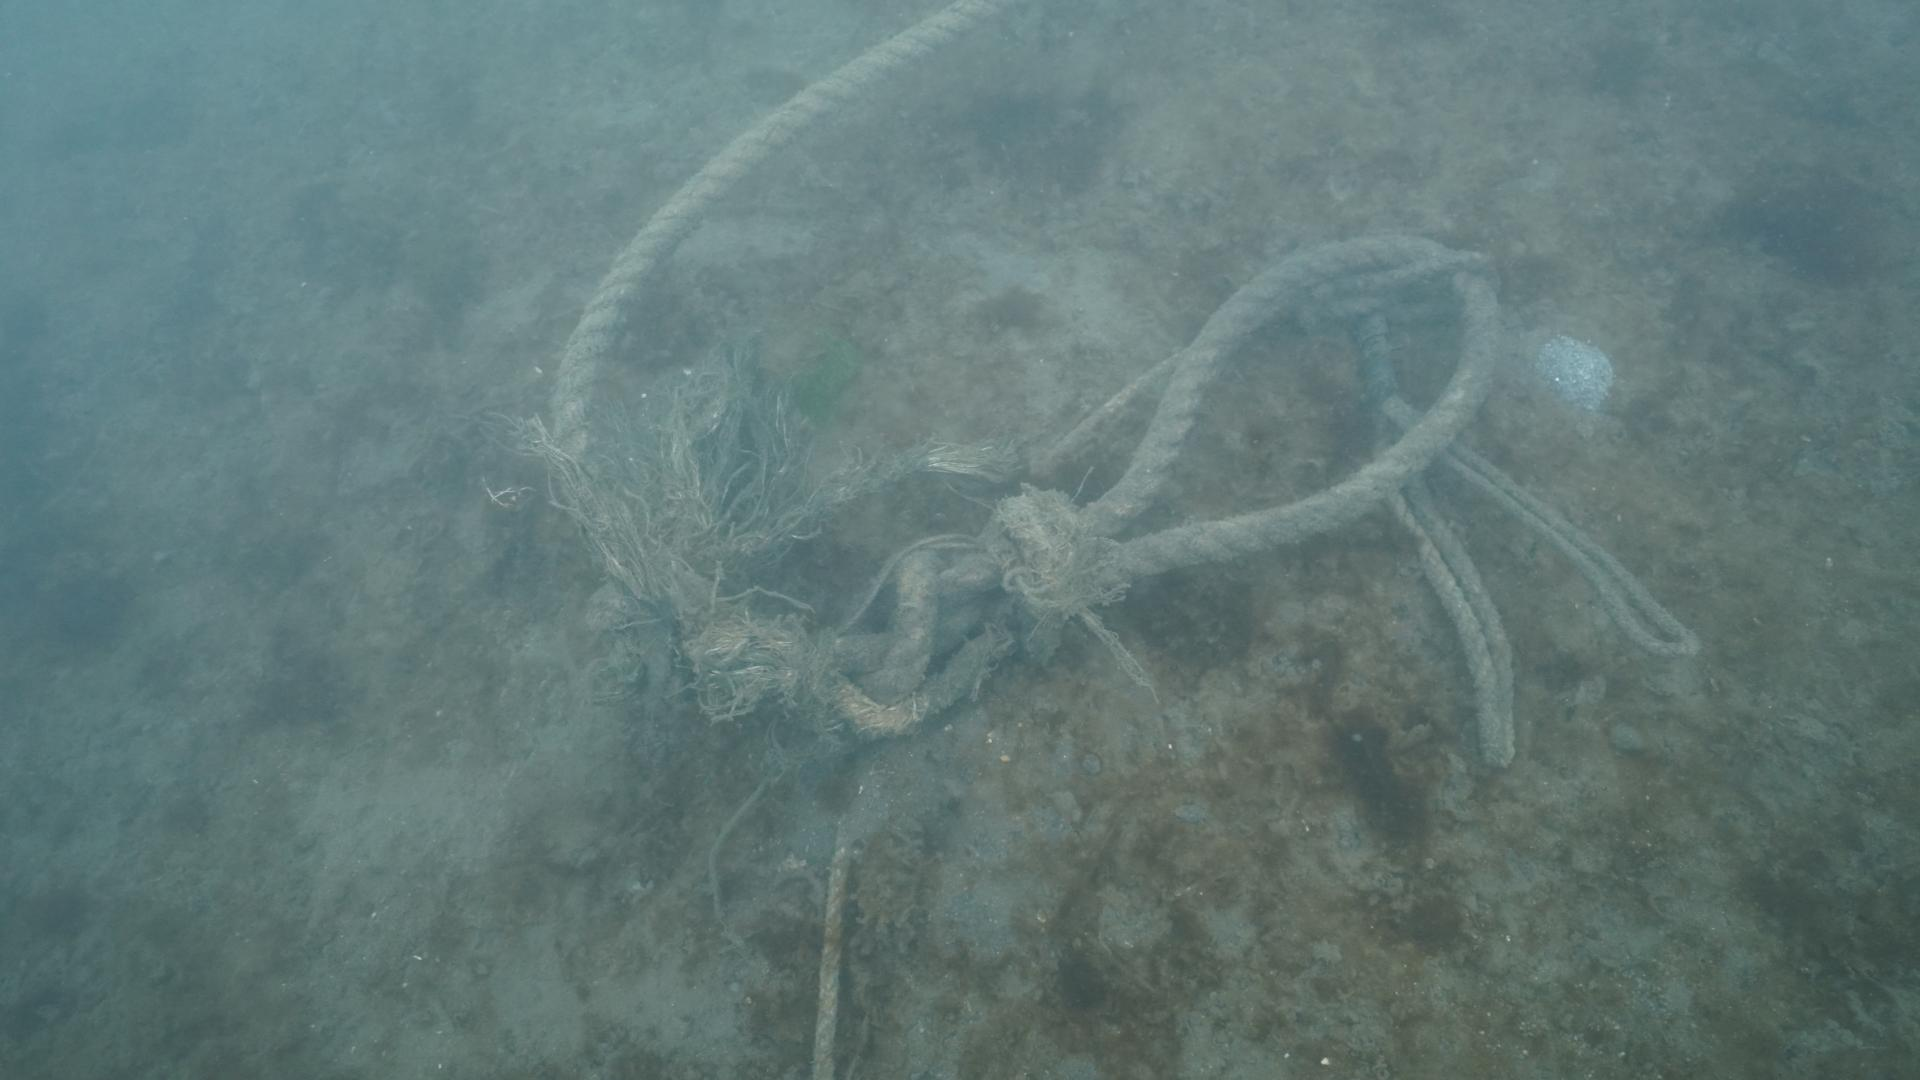bundle of ropes: (543, 0, 1702, 1080)
